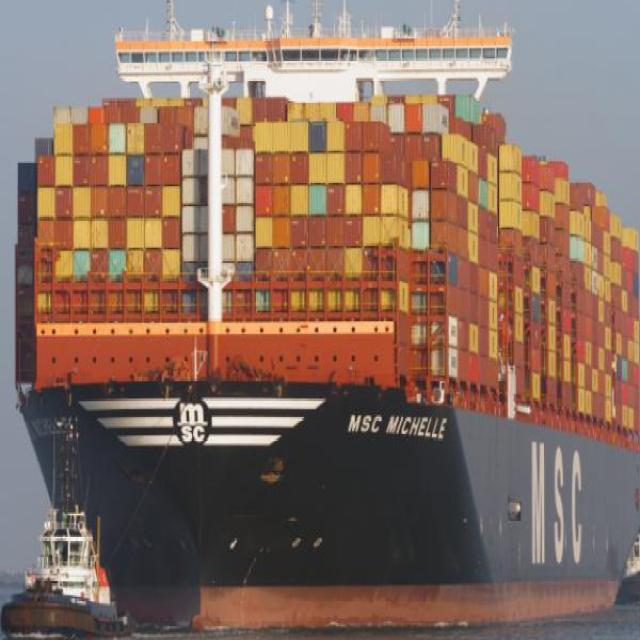Container Ship: (4, 3, 633, 629)
